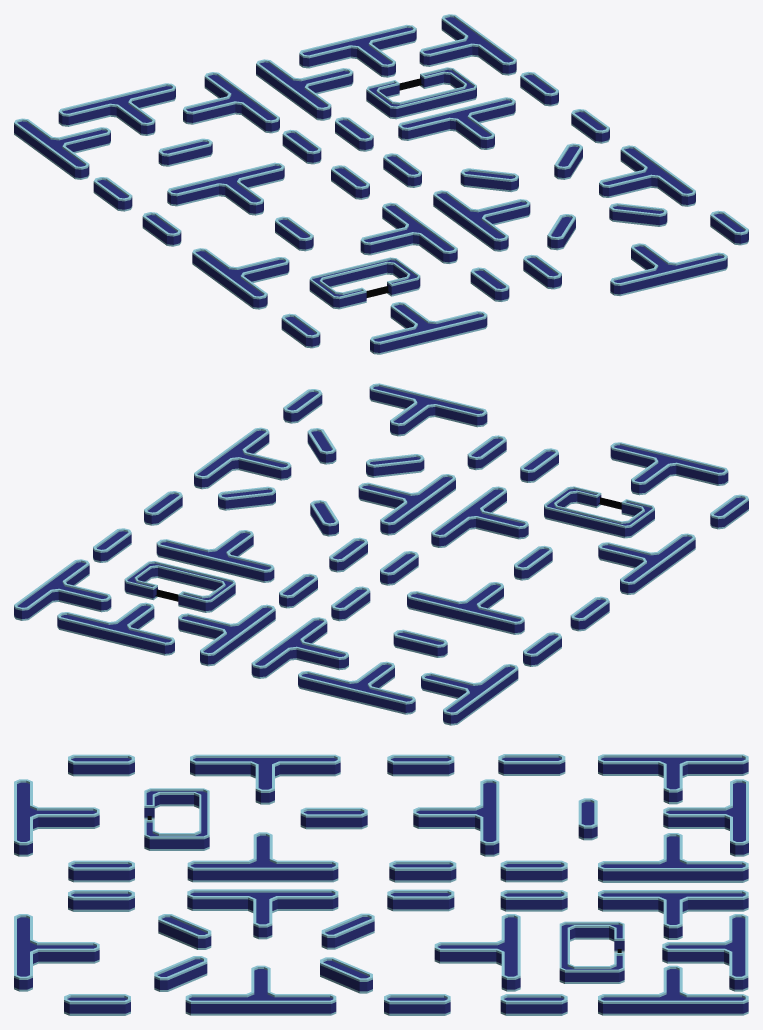
File: map.obj
3 renders of one model, top to bottom at view 1: azimuth 30°, elevation 25°; view 2: azimuth 150°, elevation 25°; view 3: azimuth 270°, elevation 25°, orthographic. The views are drawn at different scales.
Parts seen in each view (by area): view 1: polySurface629, polySurface108, polySurface336, polySurface427, polySurface33, polySurface121, polySurface178, polySurface423, polySurface30, polySurface335, polySurface184, polySurface338 (+23 smaller); view 2: polySurface108, polySurface629, polySurface121, polySurface178, polySurface336, polySurface33, polySurface427, polySurface423, polySurface290, polySurface182, polySurface30, polySurface184 (+23 smaller); view 3: polySurface338, polySurface335, polySurface184, polySurface182, polySurface30, polySurface428, polySurface290, polySurface108, polySurface629, polySurface33, polySurface423, polySurface121 (+23 smaller).
Boxes of the visible parts, x1,y1,x2,y2 form: polySurface629: (309, 257, 420, 309); polySurface108: (366, 67, 476, 119); polySurface336: (370, 302, 487, 354); polySurface427: (58, 83, 175, 135); polySurface33: (299, 24, 416, 77); polySurface121: (398, 97, 515, 149); polySurface178: (610, 243, 727, 296); polySurface423: (167, 162, 284, 215); polySurface30: (419, 14, 516, 75); polySurface335: (192, 248, 289, 309); polySurface184: (433, 190, 530, 251); polySurface338: (360, 202, 457, 263); polySurface108: (124, 561, 235, 612); polySurface629: (544, 486, 654, 538); polySurface121: (156, 530, 274, 582); polySurface178: (369, 383, 487, 436); polySurface336: (610, 442, 728, 495); polySurface33: (57, 602, 174, 655); polySurface427: (298, 661, 415, 714); polySurface423: (407, 582, 524, 634); polySurface290: (251, 617, 348, 678); polySurface182: (194, 427, 291, 489); polySurface30: (14, 559, 111, 620); polySurface184: (358, 474, 455, 535); polySurface338: (187, 832, 338, 882); polySurface335: (190, 754, 340, 804); polySurface184: (187, 889, 338, 939); polySurface182: (185, 965, 336, 1015); polySurface30: (598, 965, 748, 1015); polySurface428: (598, 754, 748, 804); polySurface290: (598, 833, 748, 882); polySurface108: (559, 921, 624, 983); polySurface629: (144, 788, 209, 850); polySurface33: (662, 914, 748, 991); polySurface423: (413, 779, 499, 856); polySurface121: (434, 914, 520, 991).
Size of the model in its own units: 61.97 by 1.6 by 77.63.
Materials: 3 (3 with a texture image).
